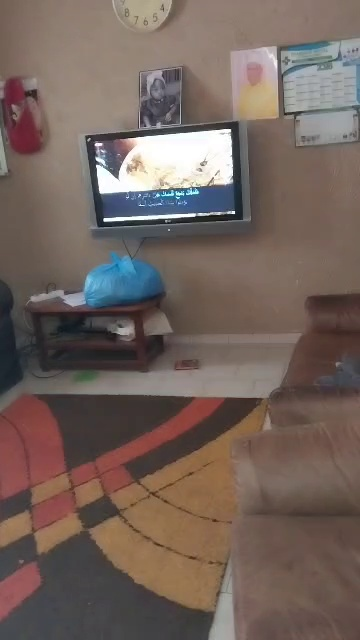television: (56, 114, 285, 244)
